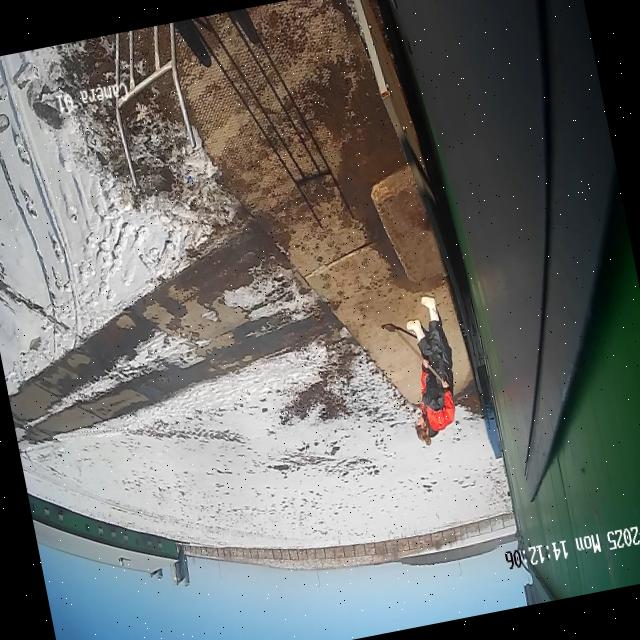Red uniform: (389, 289, 470, 447)
